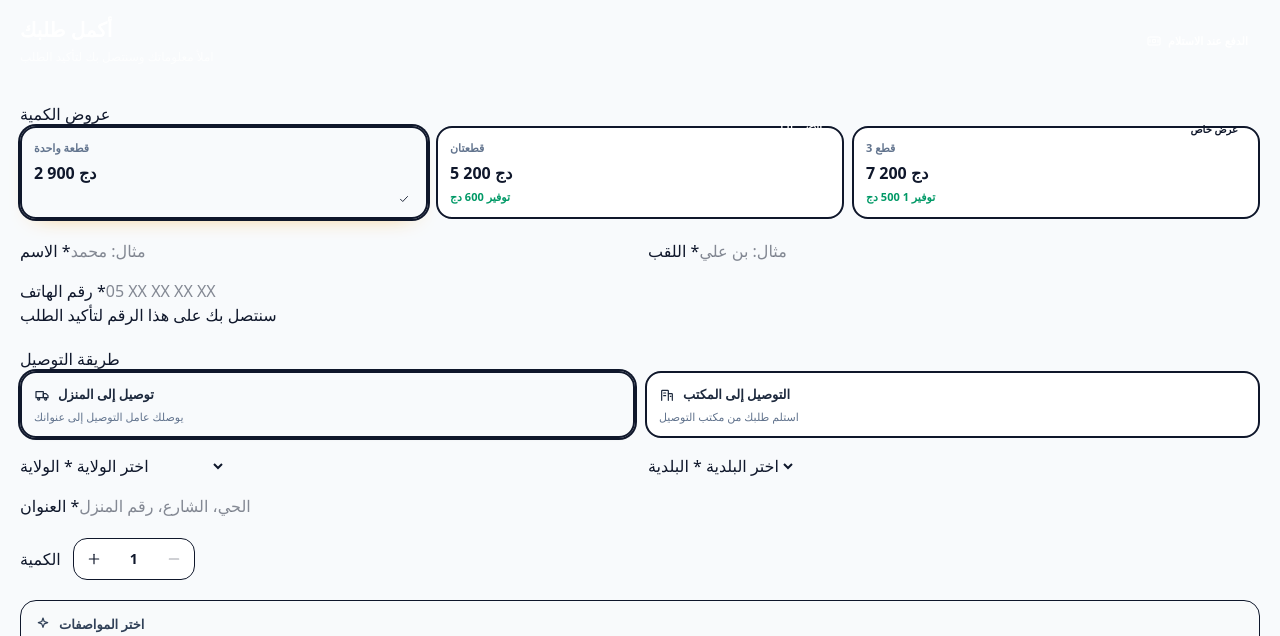
Test case: SOUQ — COD form interactions › loads the communes of the chosen wilaya
The image size is (1280, 636).
Expected: the dropdown labelled "البلدية *" is disabled, [702,454,796,478]
Select "16 - الجزائر" in the dropdown labelled "الولاية *" at [149, 466], box [73,454,226,478]
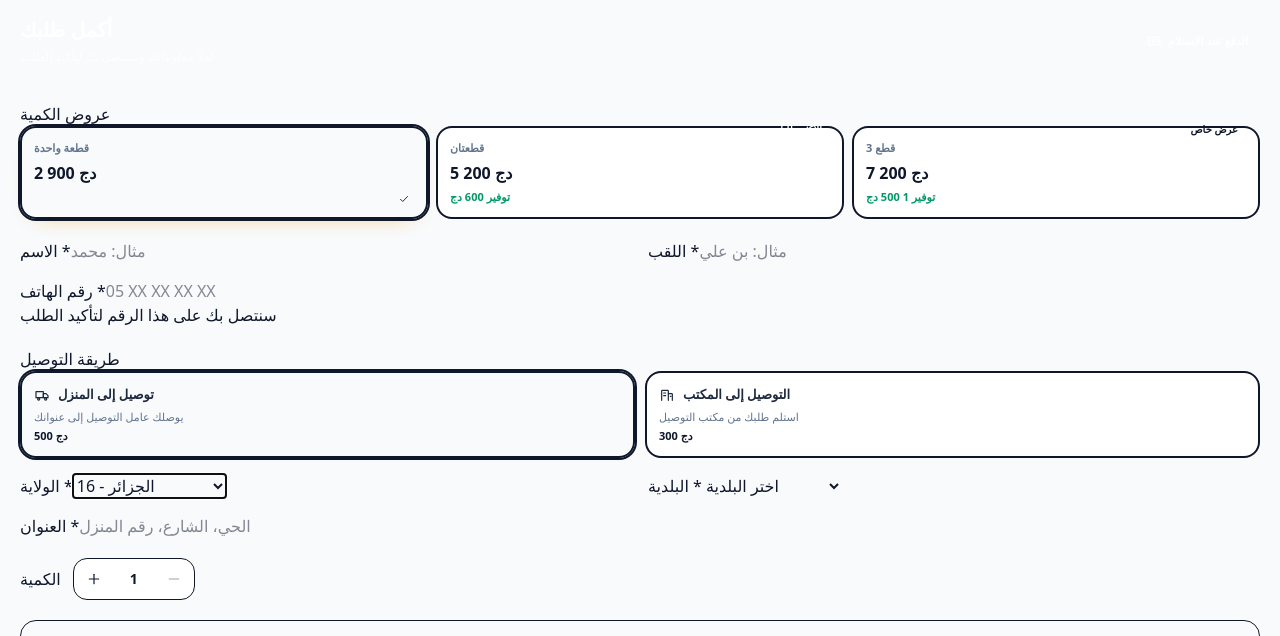
Expected: the dropdown labelled "البلدية *" is enabled, [702,474,842,498]
